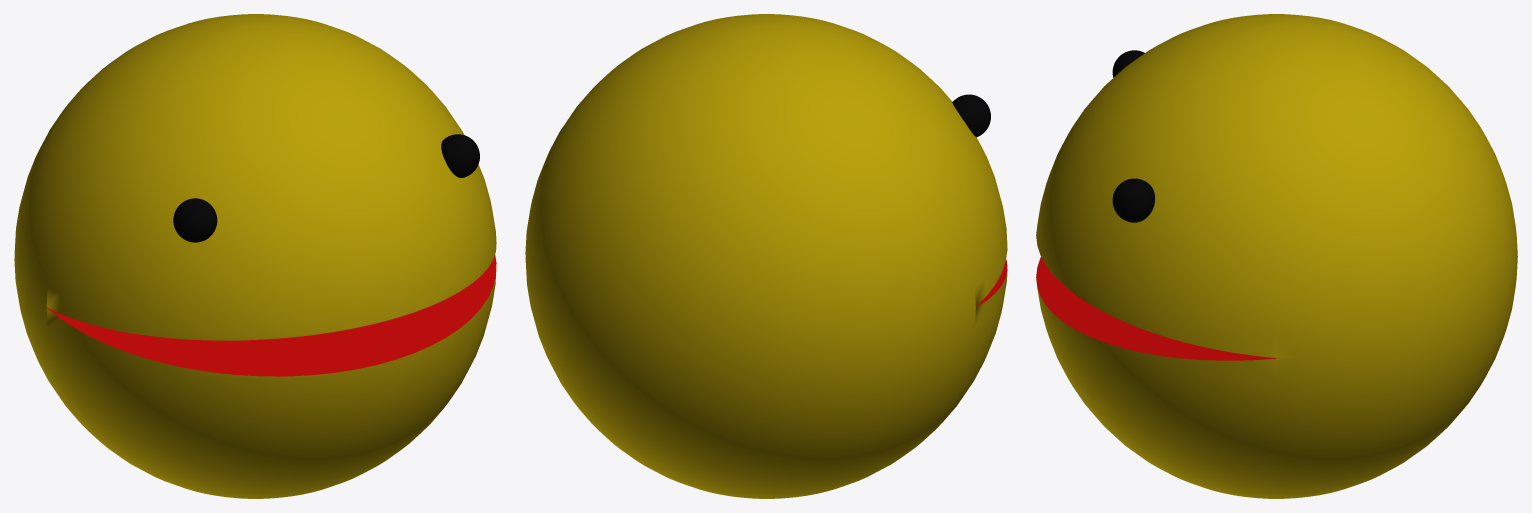
File: pacman0002.obj
3 renders of one model, left to right at view 1: azimuth 30°, elevation 25°; view 2: azimuth 150°, elevation 25°; view 3: azimuth 270°, elevation 25°, orthographic.
Parts seen in each view (by area): view 1: Body, Eyes; view 2: Body, Eyes; view 3: Body, Eyes.
Part boxes in pixels (x1,y1,x2,y2): Body: [14, 14, 496, 498]; Eyes: [173, 134, 479, 242]; Body: [525, 14, 1007, 498]; Eyes: [952, 94, 990, 137]; Body: [1036, 14, 1517, 498]; Eyes: [1112, 50, 1154, 222].
Bounding box in the file's own units: 6.6 × 6.67 × 6.59.
